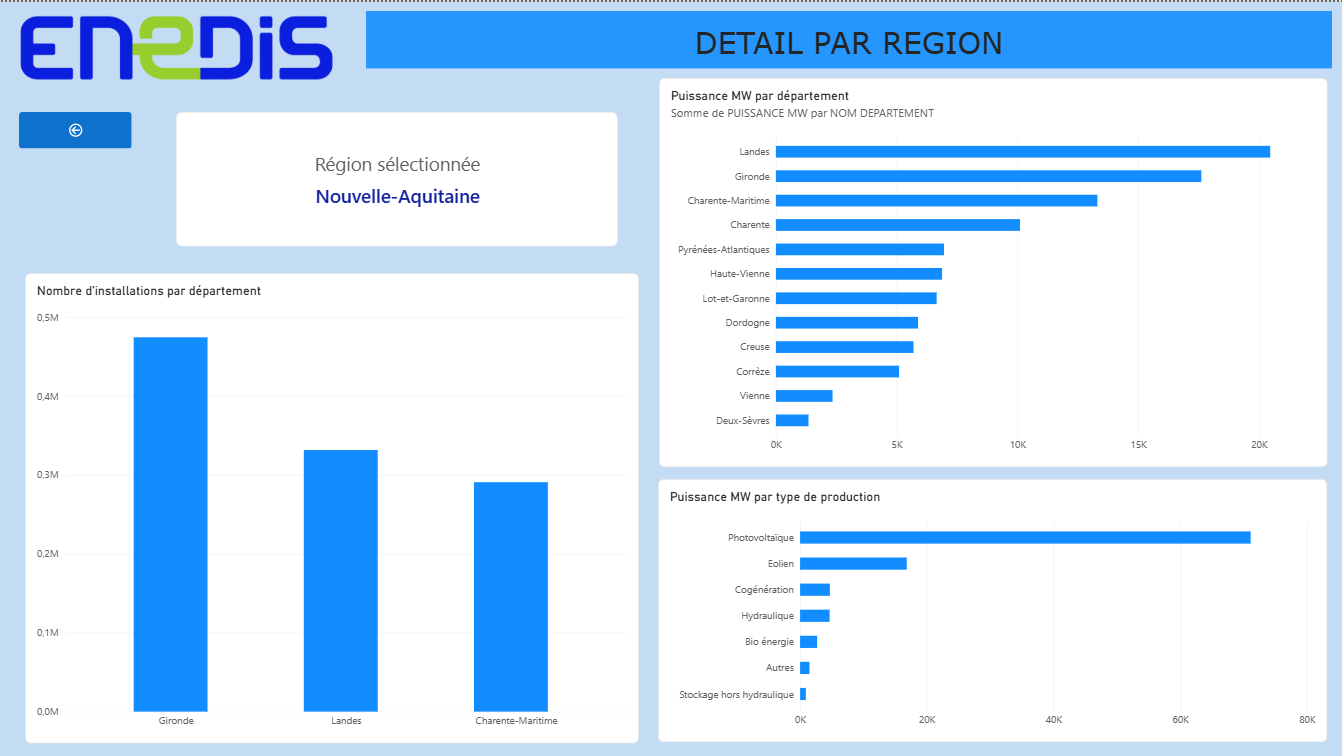

The dashboard page shown, as its layout file describes it:
{"tool":"powerbi","page":{"name":"Détail par région","canvas":[1920,1080],"ordinal":1},"visuals":[{"type":"actionButton","box":[26.9,157.2,161.2,52.4],"z":0},{"type":"cardVisual","fields":{"Data":["Table des mesures.Région sélectionnée"]},"box":[251.2,157.2,631.7,192.6],"z":1000},{"type":"barChart","title":"Puissance MW par département","fields":{"Category":["Production énergie renouvelable.NOM DEPARTEMENT"],"Y":["Sum(Production énergie renouvelable.PUISSANCE MW)"]},"box":[941.6,108.8,955.1,556.1],"z":2000},{"type":"clusteredBarChart","title":"Puissance MW par type de production","fields":{"Category":["Production énergie renouvelable.TYPE PRODUCTION"],"Y":["Sum(Production énergie renouvelable.PUISSANCE MW)"]},"box":[940.7,680.7,956.1,376],"z":3000},{"type":"columnChart","title":"Nombre d''installations par département","fields":{"Category":["Production énergie renouvelable.NOM DEPARTEMENT"],"Y":["Sum(Production énergie renouvelable.NOMBRE INSTALLATIONS)"]},"box":[36.3,386.9,877.2,671.6],"z":4000},{"type":"textbox","box":[522.5,13.4,1379.6,81.9],"z":4002},{"type":"image","box":[26.6,13.3,449.6,106.4],"z":4003}]}

Visuals, with their boxes in screenshot pixels (x1, y1, x2, y2), scaled from the page's 1920x1080 canvas onto the 1342x756 screenshot:
actionButton: x1=19, y1=110, x2=131, y2=147
cardVisual - Table des mesures.Région sélectionnée: x1=176, y1=110, x2=617, y2=245
"Puissance MW par département" barChart: x1=658, y1=76, x2=1326, y2=465
"Puissance MW par type de production" clusteredBarChart: x1=658, y1=476, x2=1326, y2=740
"Nombre d''installations par département" columnChart: x1=25, y1=271, x2=638, y2=741
textbox: x1=365, y1=9, x2=1329, y2=67
image: x1=19, y1=9, x2=333, y2=84
